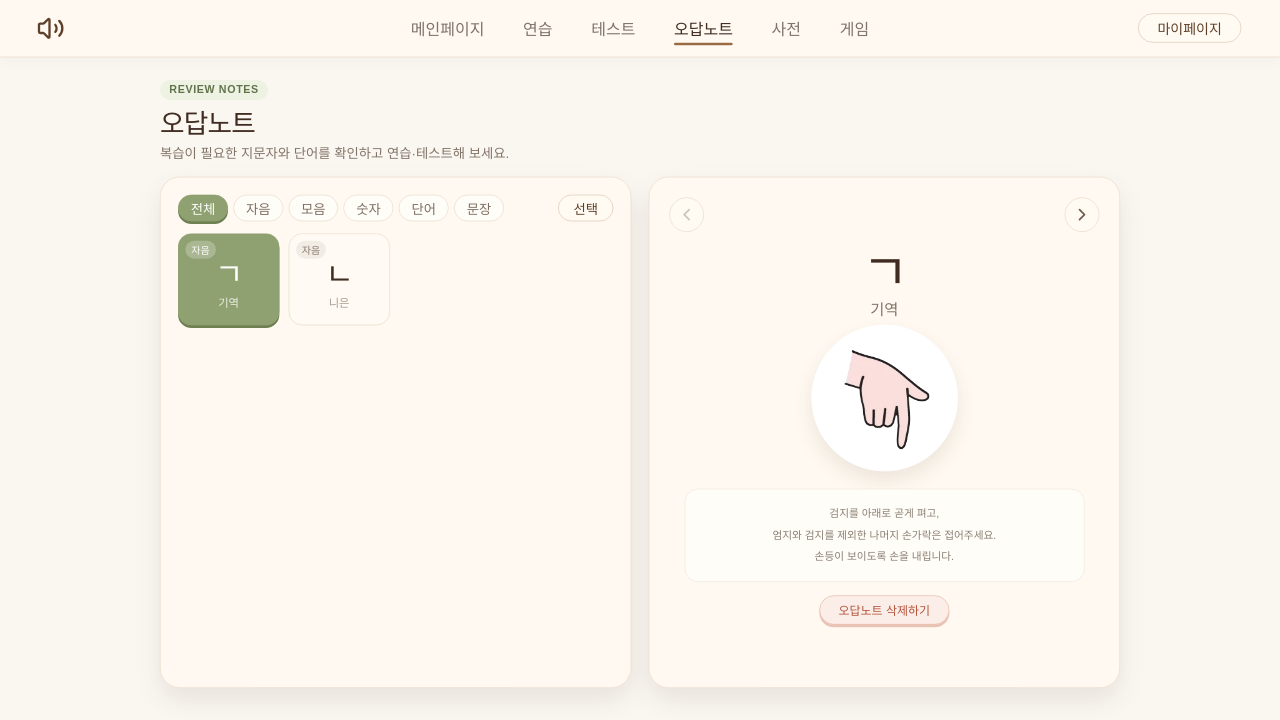
Test: 오답노트 -> 테스트 -> 뒤로가기 실제 흐름 › 오답노트로 돌아온다
// 오답노트에서 두 글자를 골라 테스트로 넘어간다.
Click the button "선택" at (586, 208), box left=558, top=195, right=613, bottom=221
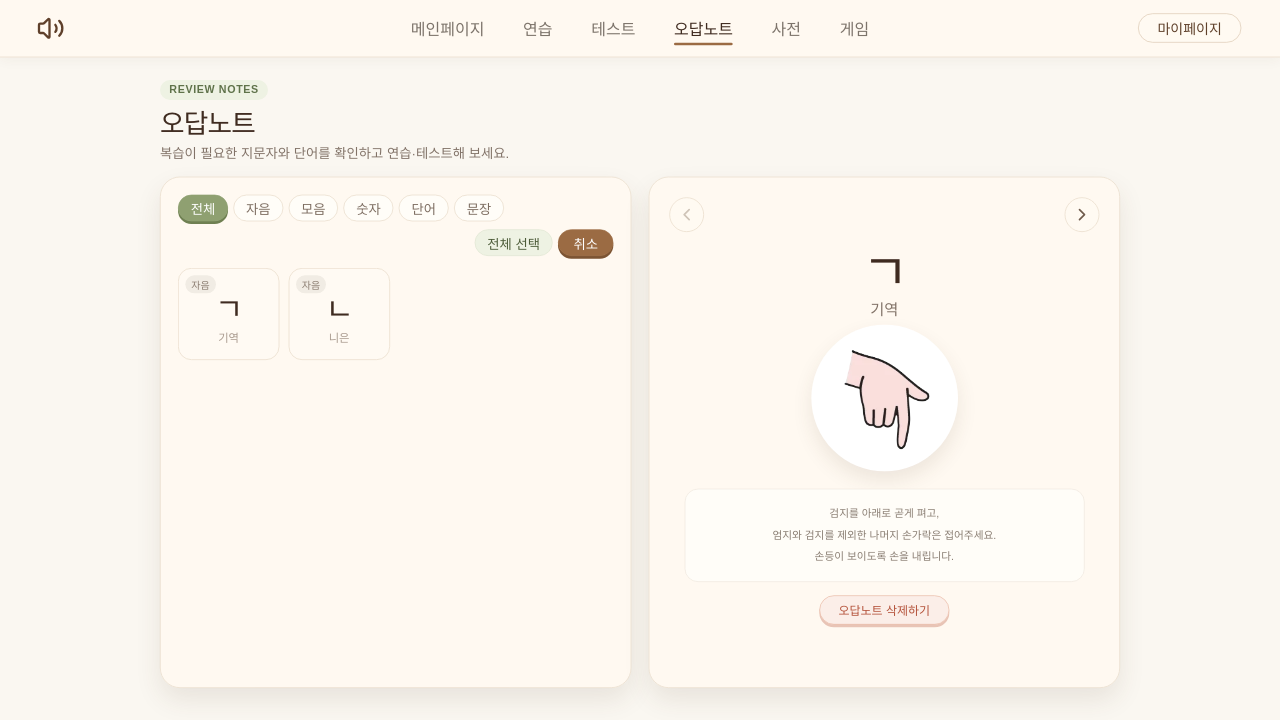
Click the button "전체 선택" at (514, 243), box left=475, top=229, right=553, bottom=256
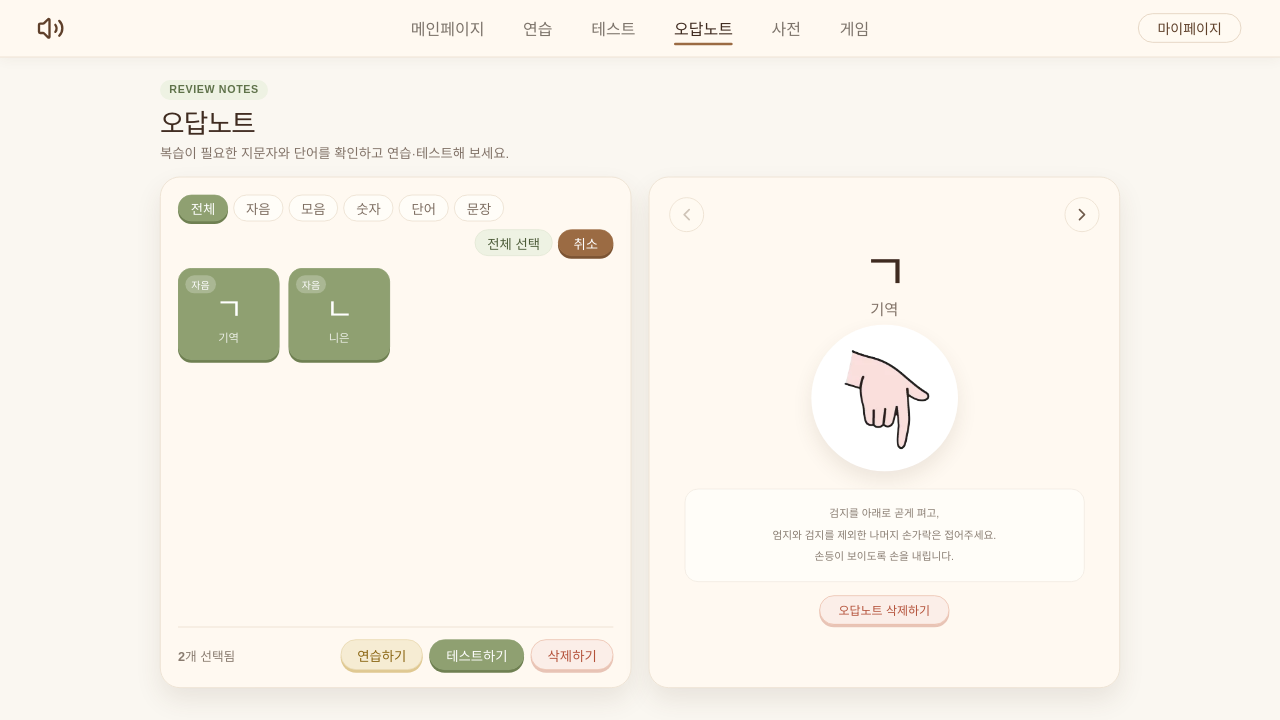
Click the button "테스트하기" at (477, 655), box left=430, top=639, right=524, bottom=670
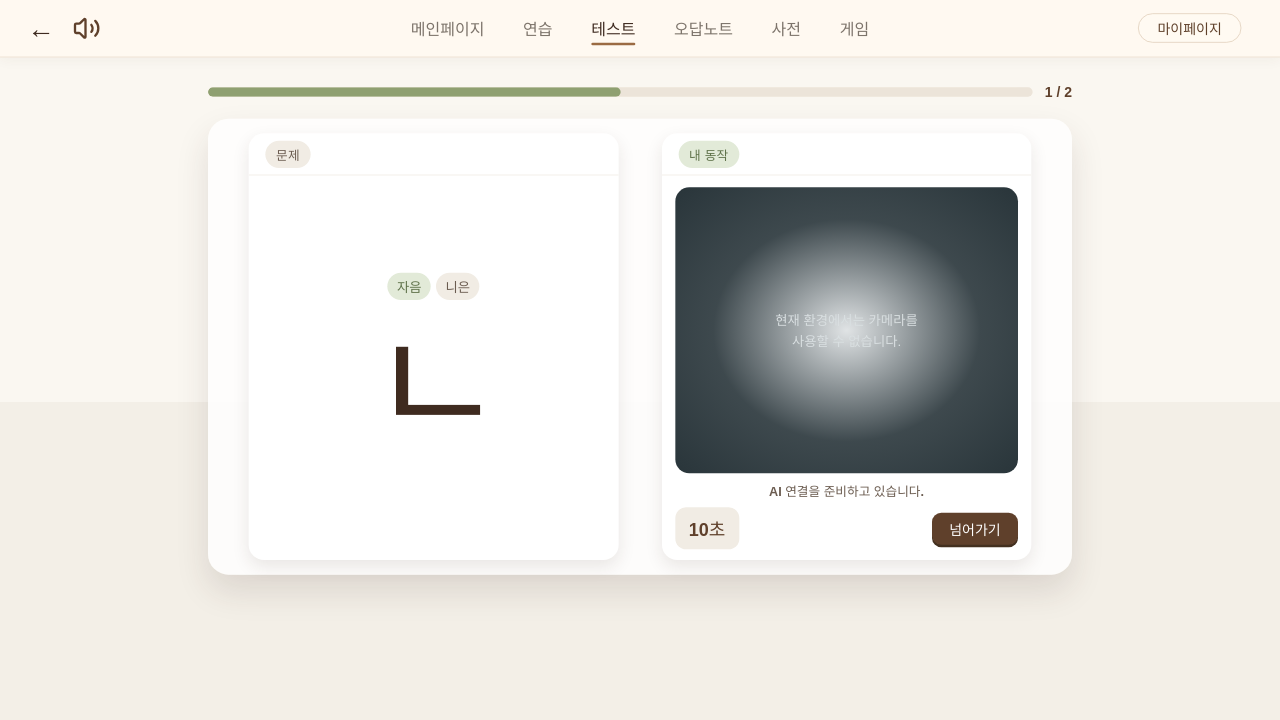
Expected: the text "1 / 2" is shown, left=1045, top=84, right=1072, bottom=100
Click the button named "뒤로 가기" at (41, 28), box left=21, top=9, right=61, bottom=48
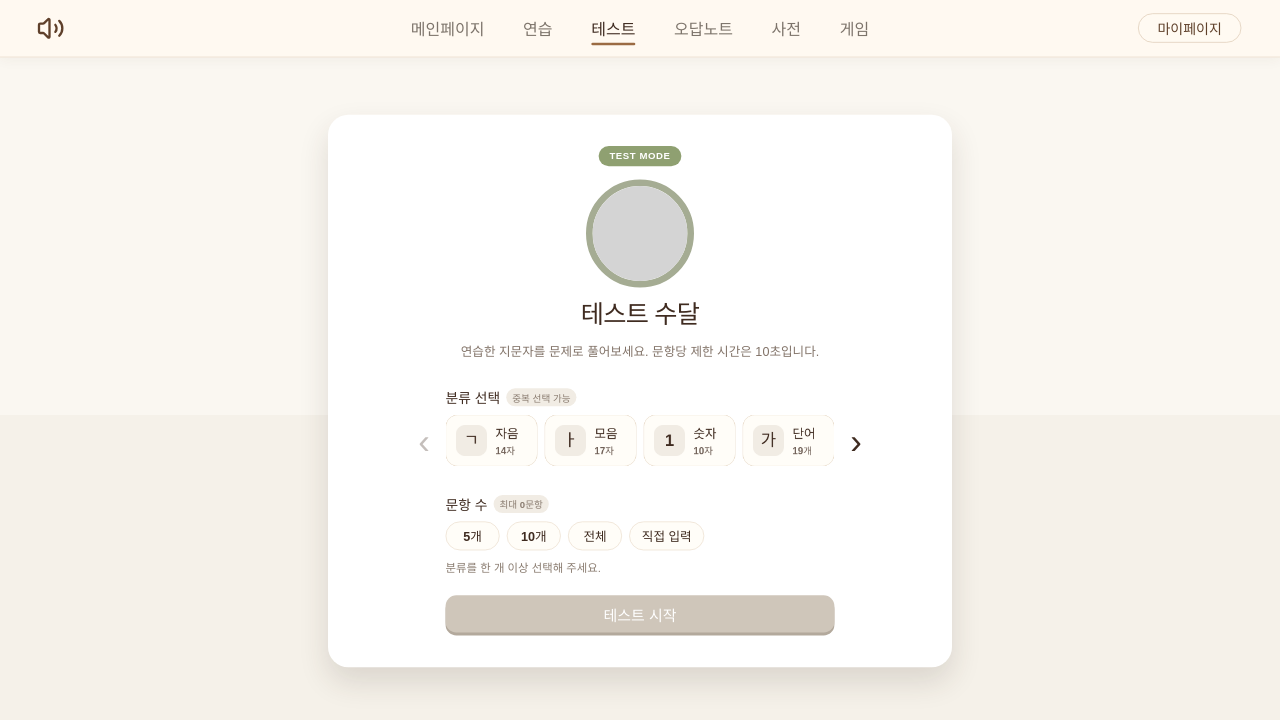
Expected: the button "테스트 시작" is shown, left=446, top=595, right=834, bottom=632
